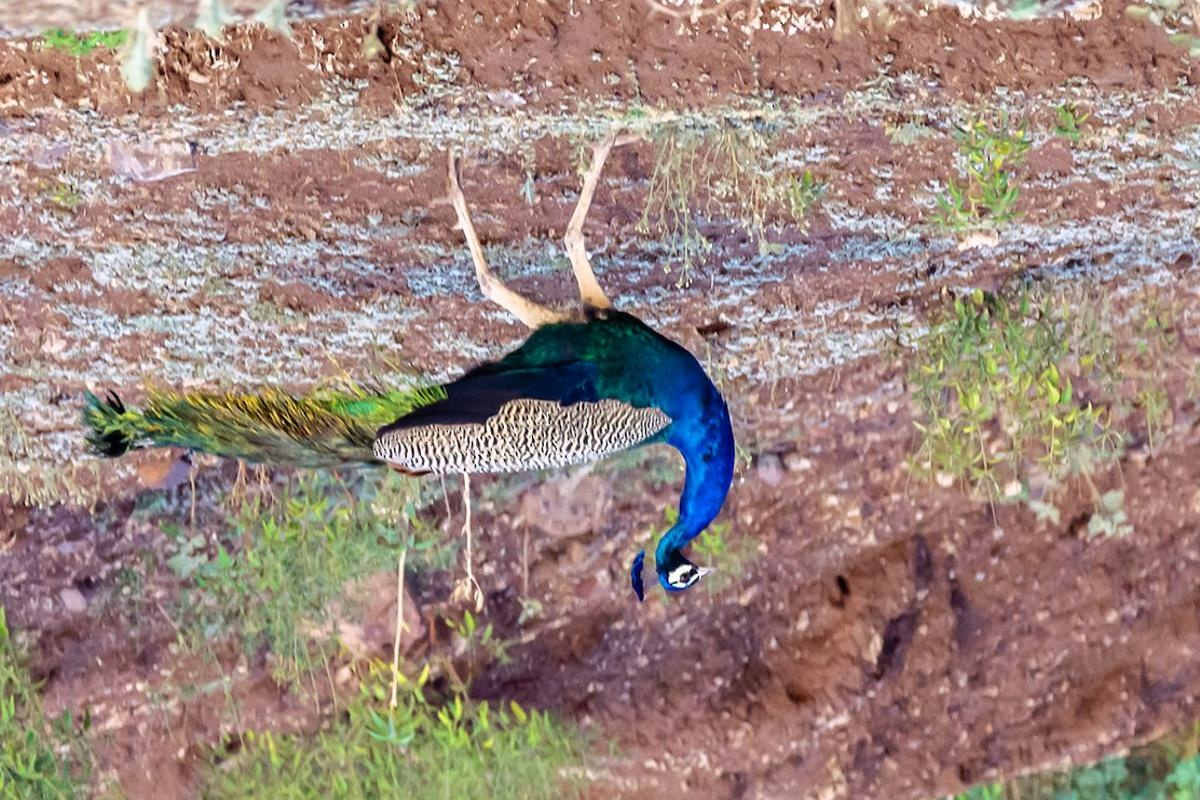peacock: (284, 200, 769, 662)
